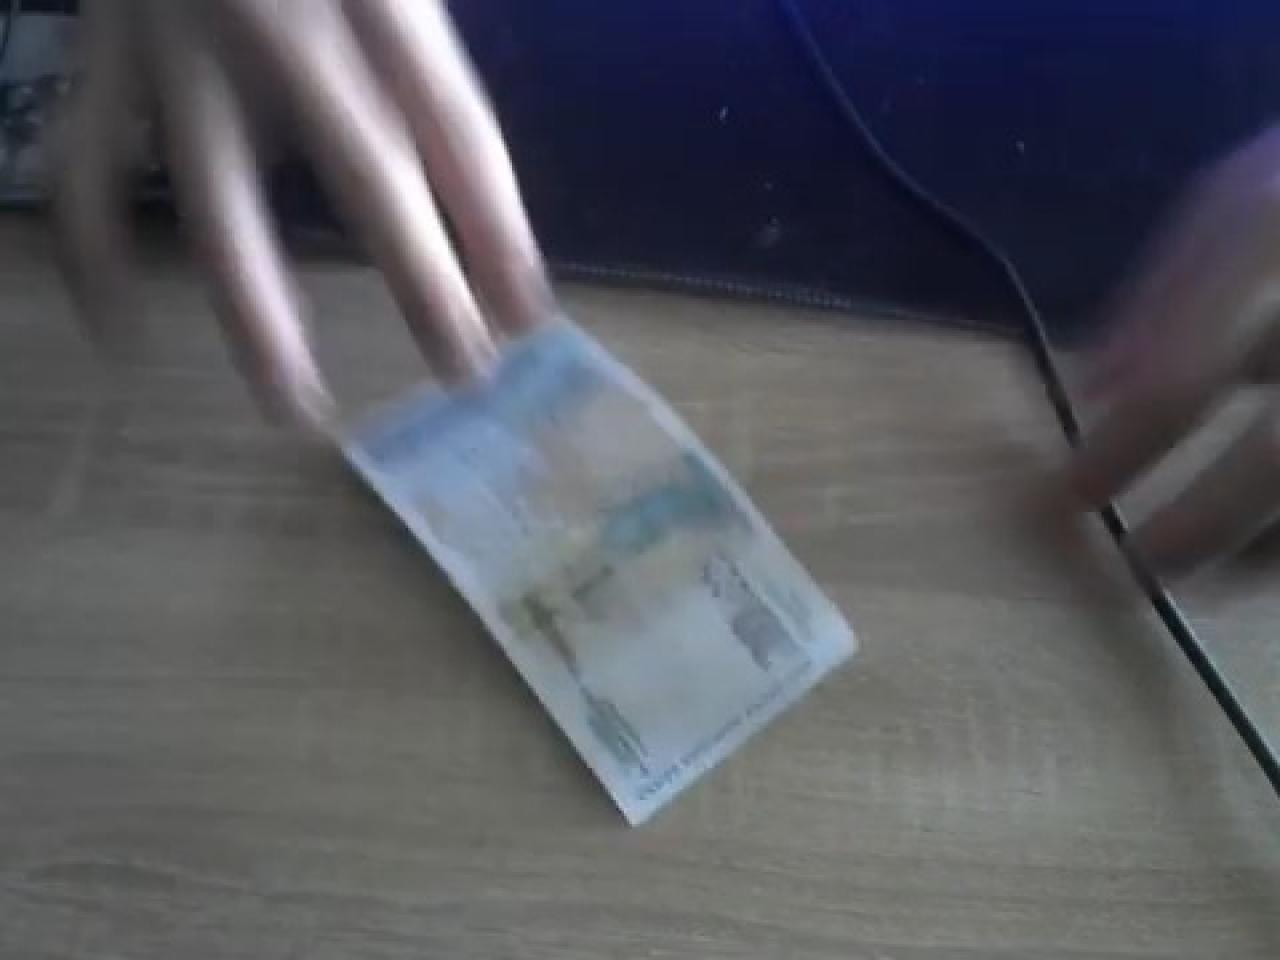20leva: (65, 0, 854, 829)
